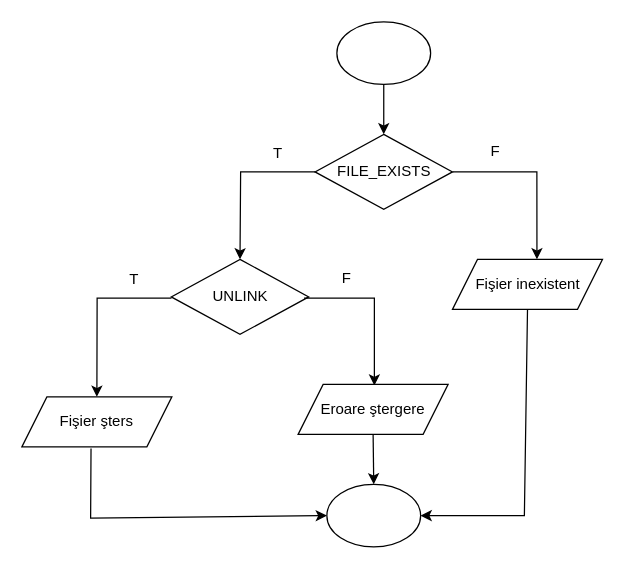
Some shapes in this 625 by 569 pixel diagram are drawn without their labels. Each missing label, with the centre of its shape:
End: the point at 373,515
Start: the point at 383,52
